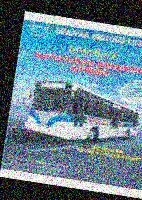bus: (20, 76, 142, 150)
